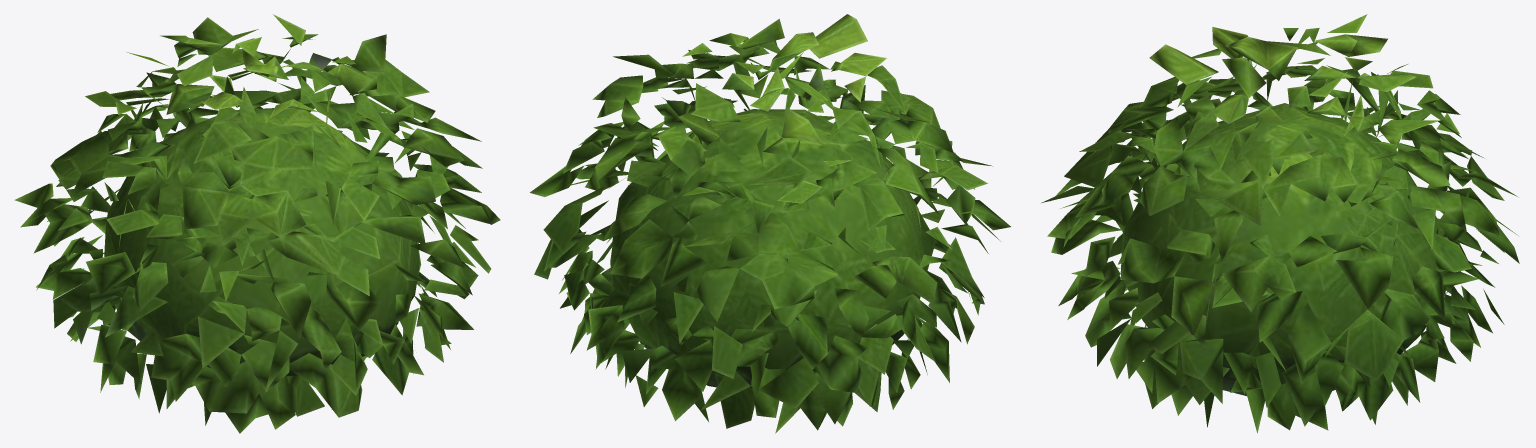
File: bush_round.glb
The picture shows the model from 3 angles, left to right: view 1: azimuth 30°, elevation 25°; view 2: azimuth 150°, elevation 25°; view 3: azimuth 270°, elevation 25°; orthographic projection.
Visible parts, largest first — view 1: plant; view 2: plant; view 3: plant.
Part boxes in pixels (x1,y1,x2,y2): plant: (14, 14, 500, 433); plant: (530, 14, 1010, 433); plant: (1041, 14, 1519, 433).
Bounding box in the file's own units: 1 × 0.7718 × 0.9902.
1 material, 1 textured.
